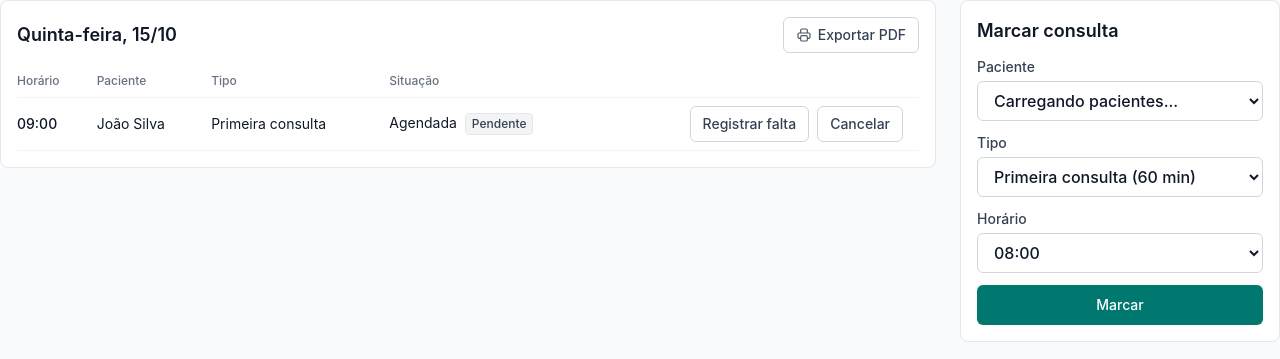
Test case: AgendaDoDia › exibe a agenda e permite agendar consulta via react-hook-form
Expected: the text "João Silva" is shown, [97, 98, 211, 150]
Expected: the heading "Marcar consulta" is shown, [977, 20, 1118, 41]
// Cancelar a consulta
Click the button "Cancelar": click(860, 124) [817, 106, 903, 142]
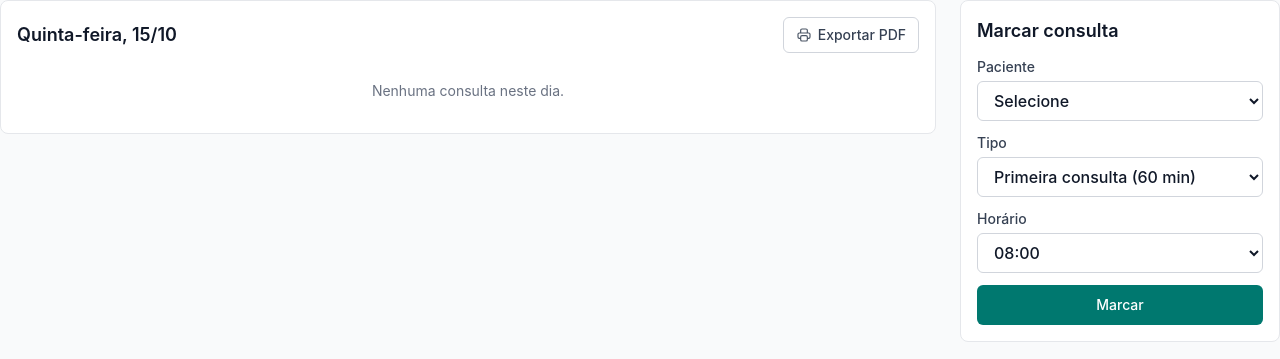
Expected: the button "Cancelar" is gone
